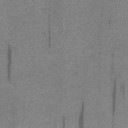red iron: (112, 78, 116, 128), (8, 44, 12, 80), (79, 102, 84, 128), (48, 12, 51, 48), (62, 117, 65, 128), (108, 19, 110, 28)
